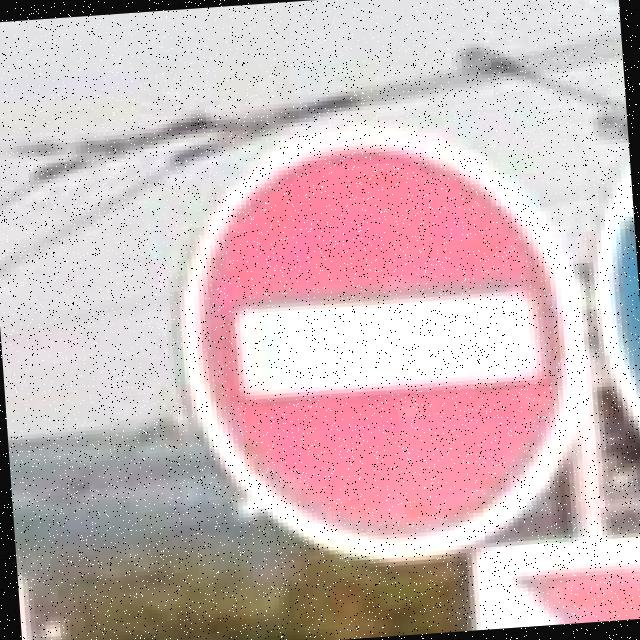Zakaz wjazdu: (168, 119, 592, 575)
